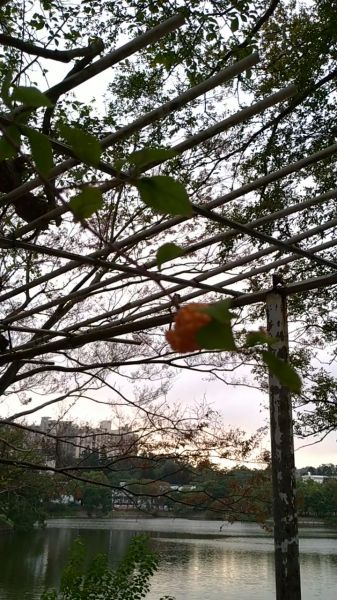eggs: (165, 297, 218, 358)
